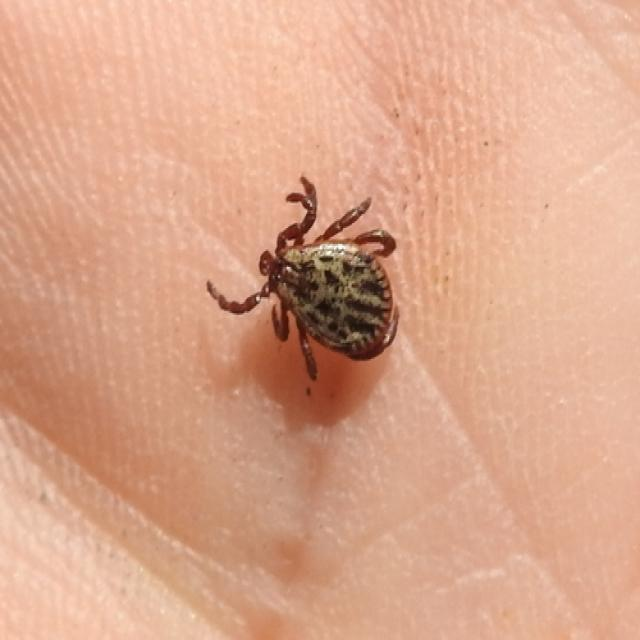Dermacentor Reticulatus-M: (207, 180, 401, 398)
